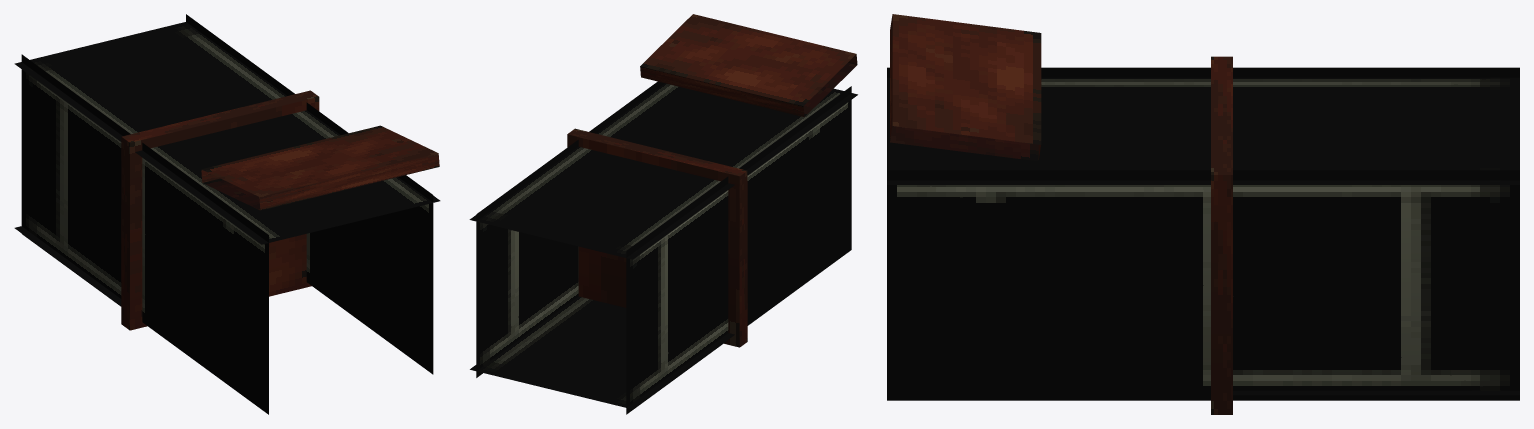
Rendered from prop_chairfallen-3-1.glb.
3 renders of one model, left to right at view 1: azimuth 30°, elevation 25°; view 2: azimuth 150°, elevation 25°; view 3: azimuth 270°, elevation 25°, orthographic. The views are drawn at different scales.
Visible parts, largest first — view 1: prop_chairfallen-3-1; view 2: prop_chairfallen-3-1; view 3: prop_chairfallen-3-1.
Boxes of the visible parts, x1,y1,x2,y2 form: prop_chairfallen-3-1: [14, 14, 440, 414]; prop_chairfallen-3-1: [469, 14, 857, 414]; prop_chairfallen-3-1: [887, 14, 1519, 414].
Size of the model in its own units: 0.361 by 0.4072 by 0.817.
2 materials, 2 textured.
